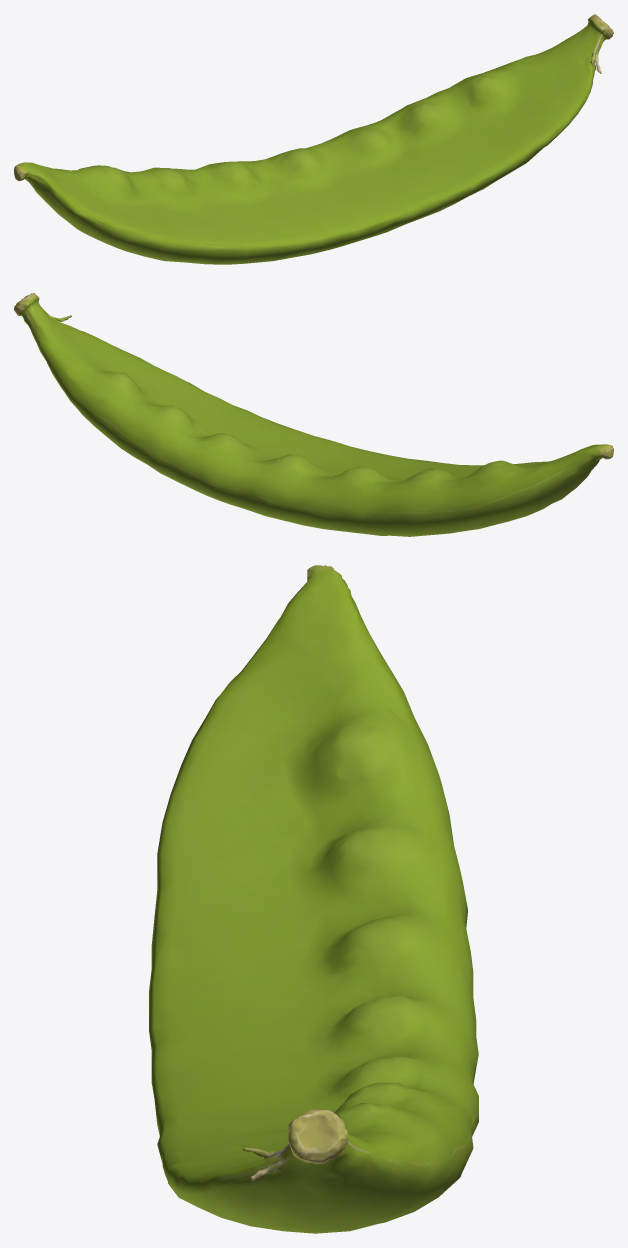
The picture shows the model from 3 angles, top to bottom: view 1: azimuth 30°, elevation 25°; view 2: azimuth 150°, elevation 25°; view 3: azimuth 270°, elevation 25°; orthographic projection. The views are drawn at different scales.
Visible parts, largest first — view 1: Snow Peas; view 2: Snow Peas; view 3: Snow Peas.
Part boxes in pixels (x1=…): Snow Peas: x1=14, y1=14, x2=613, y2=264; Snow Peas: x1=14, y1=293, x2=613, y2=536; Snow Peas: x1=149, y1=565, x2=478, y2=1233.
Size of the model in its own units: 0.998 by 0.2402 by 0.2402.
Materials: 1 (1 with a texture image).
